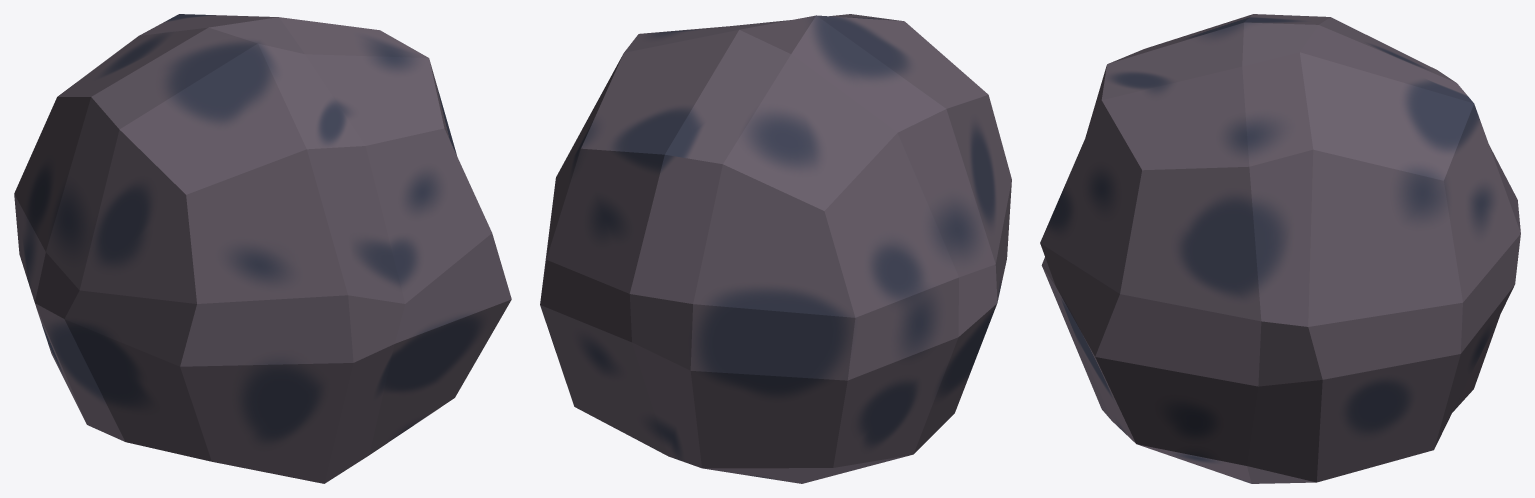
File: meteorite.glb
The picture shows the model from 3 angles, left to right: view 1: azimuth 30°, elevation 25°; view 2: azimuth 150°, elevation 25°; view 3: azimuth 270°, elevation 25°; orthographic projection.
Visible parts, largest first — view 1: Cube; view 2: Cube; view 3: Cube.
Boxes of the visible parts, bbox=[...] form: Cube: bbox=[14, 14, 511, 483]; Cube: bbox=[540, 14, 1011, 483]; Cube: bbox=[1040, 14, 1520, 483].
Size of the model in its own units: 2.06 by 2.07 by 2.07.
Materials: 1 (1 with a texture image).
